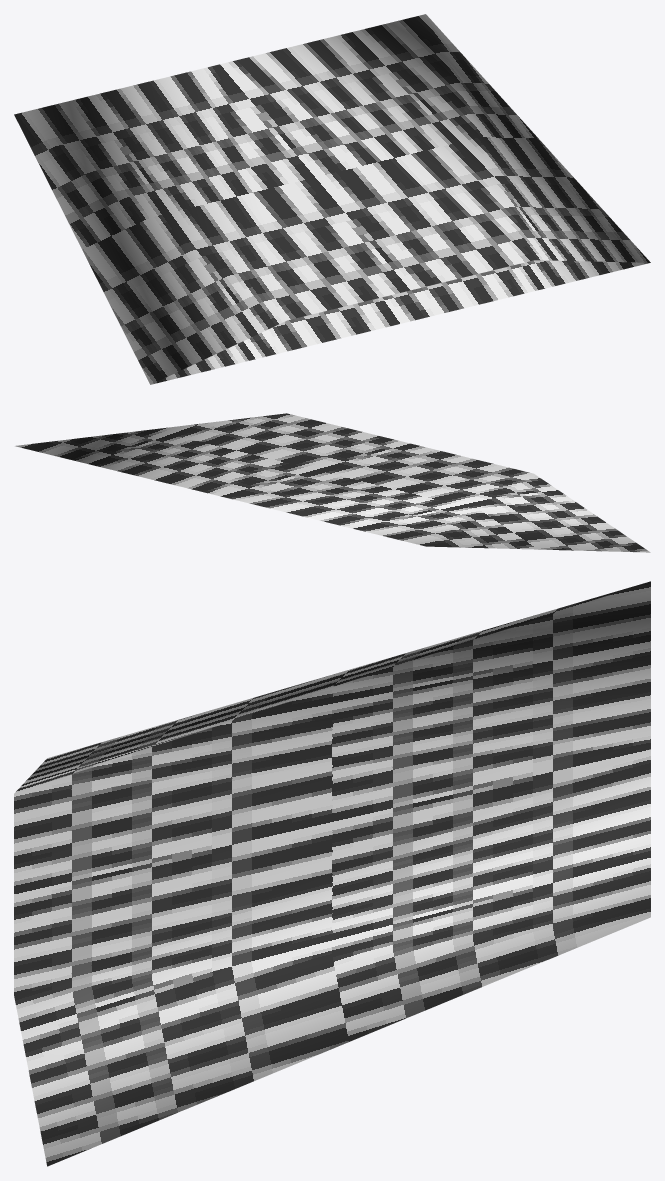
The model's file is 2267skirt00_r.gltf.
The picture shows the model from 3 angles, top to bottom: view 1: azimuth 30°, elevation 25°; view 2: azimuth 150°, elevation 25°; view 3: azimuth 270°, elevation 25°; orthographic projection. The views are drawn at different scales.
Visible parts, largest first — view 1: 2267skirt00_r; view 2: 2267skirt00_r; view 3: 2267skirt00_r.
Boxes of the visible parts, bbox=[...] form: 2267skirt00_r: bbox=[14, 14, 650, 384]; 2267skirt00_r: bbox=[15, 413, 650, 552]; 2267skirt00_r: bbox=[14, 581, 650, 1166].
Size of the model in its own units: 0.9868 by 0.24 by 0.6504.
Materials: 1 (1 with a texture image).
